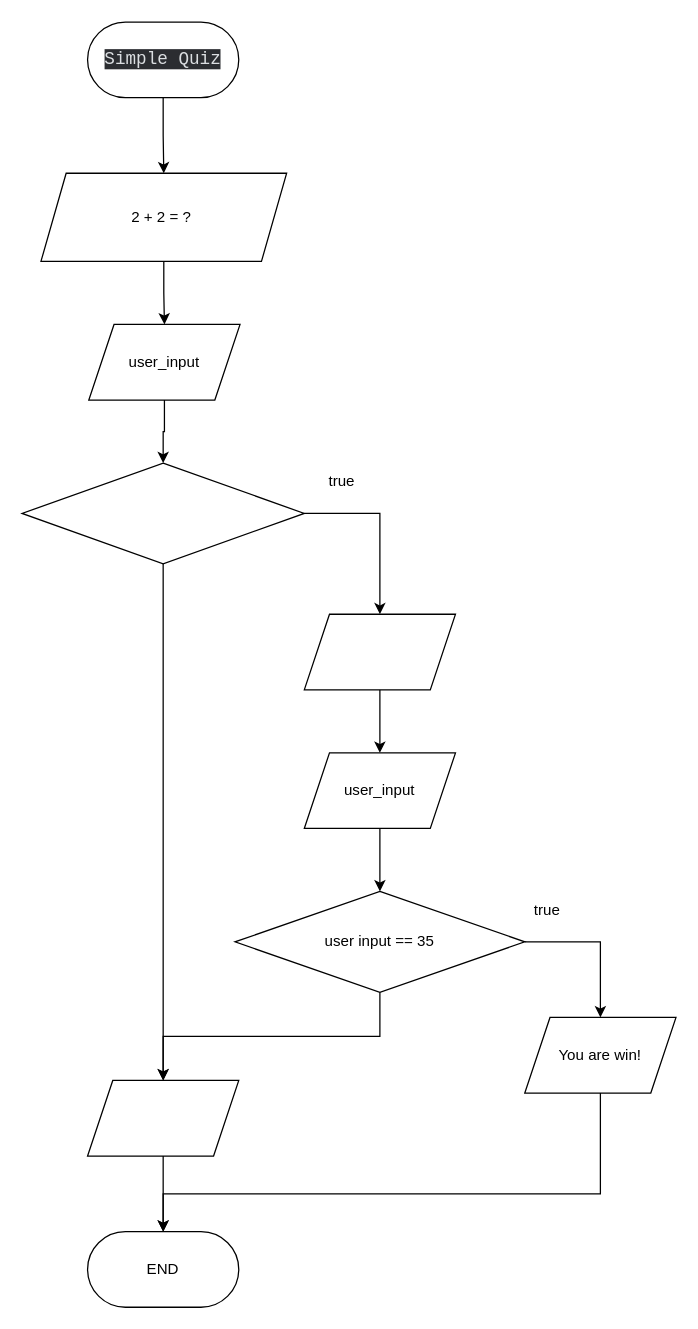
This 698x1329 diagram has some shape labels left out. The shapes that lost their labels are listed below. From the top down, each one's centre as x and y in pixels, then its label:
pixel 162 513: user input == 4
pixel 379 651: Correct! 5 * 7 = ?
pixel 162 1117: You are looser
